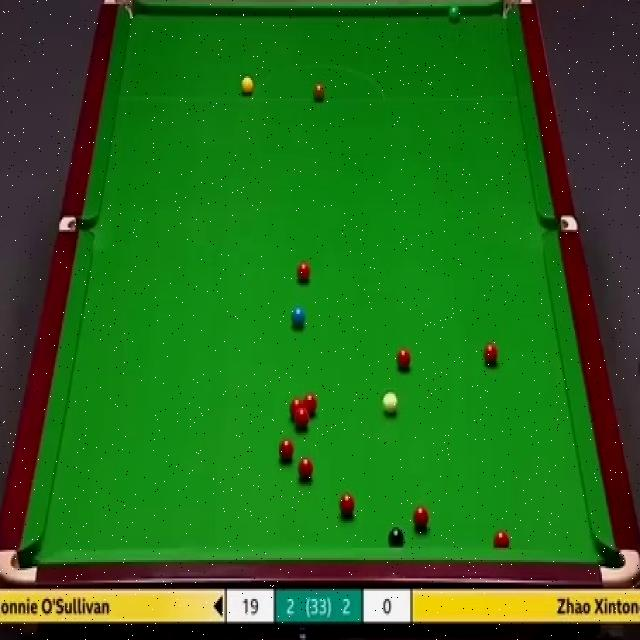black-ball: (386, 527, 404, 550)
blue-ball: (290, 306, 306, 331)
brown-ball: (311, 80, 325, 104)
green-ball: (447, 4, 463, 23)
red-ball: (337, 492, 355, 520), (396, 346, 413, 374), (297, 457, 314, 485), (412, 505, 428, 533), (296, 262, 313, 287), (278, 438, 294, 464), (483, 341, 498, 367), (303, 393, 318, 419), (494, 529, 510, 549), (295, 410, 309, 431), (290, 398, 303, 418)
white-ball: (381, 388, 399, 418)
yellow-ball: (239, 75, 254, 95)
